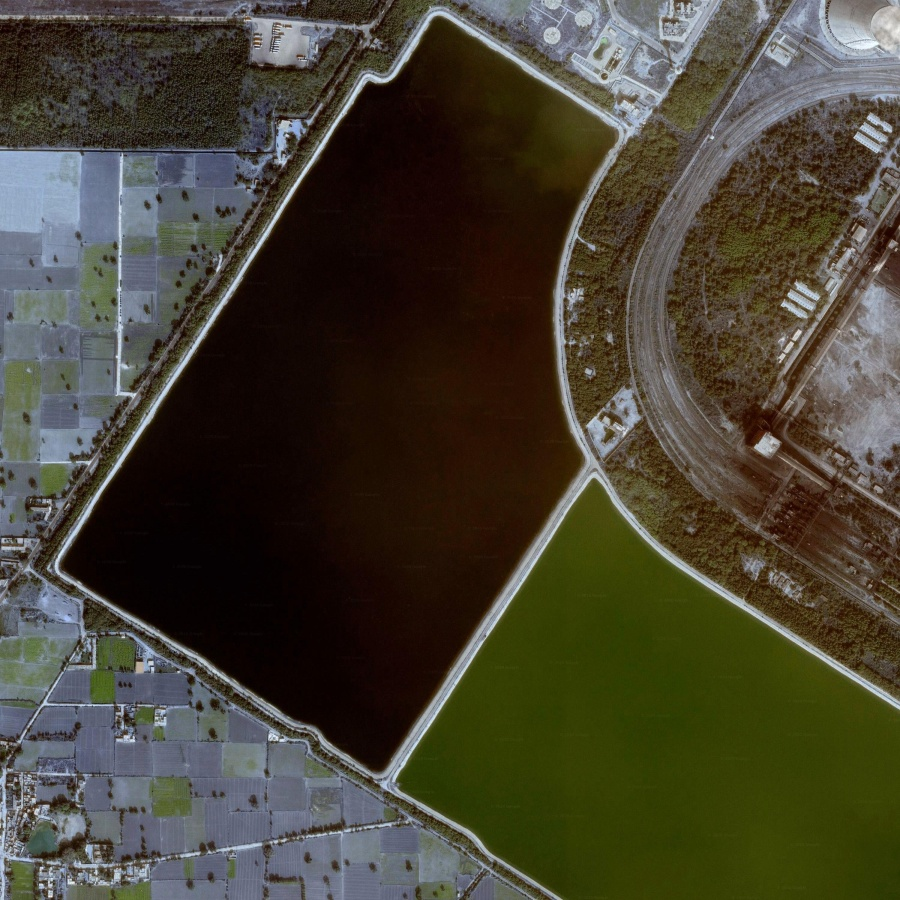PowerPlant: (41, 2, 633, 780)
